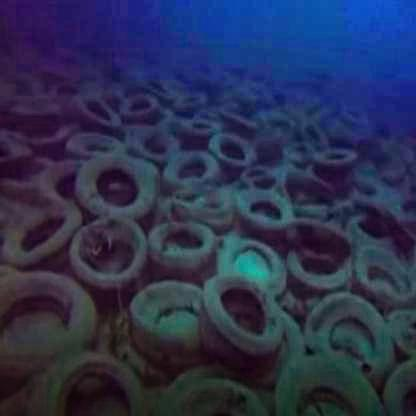tire: (188, 240, 291, 360), (84, 150, 155, 230), (282, 212, 351, 286), (218, 123, 263, 182)
